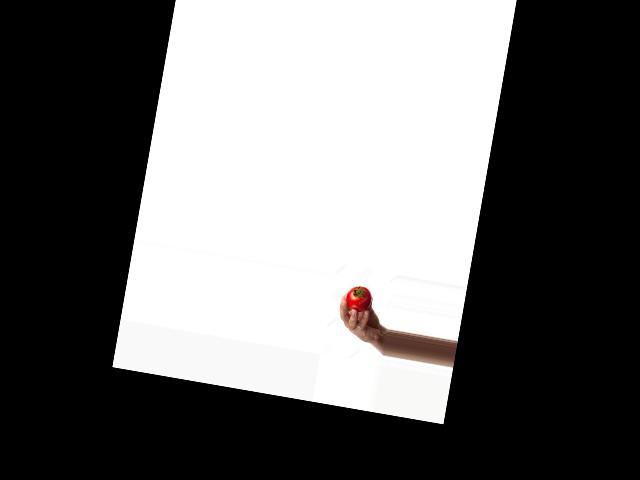tomato: (344, 284, 373, 313)
